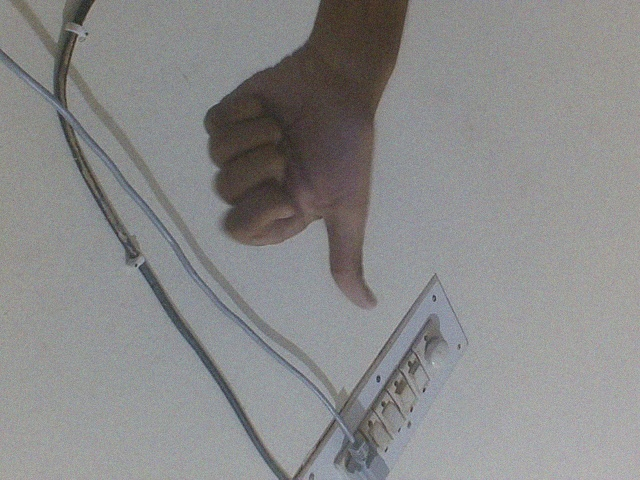hand: (201, 28, 389, 317)
